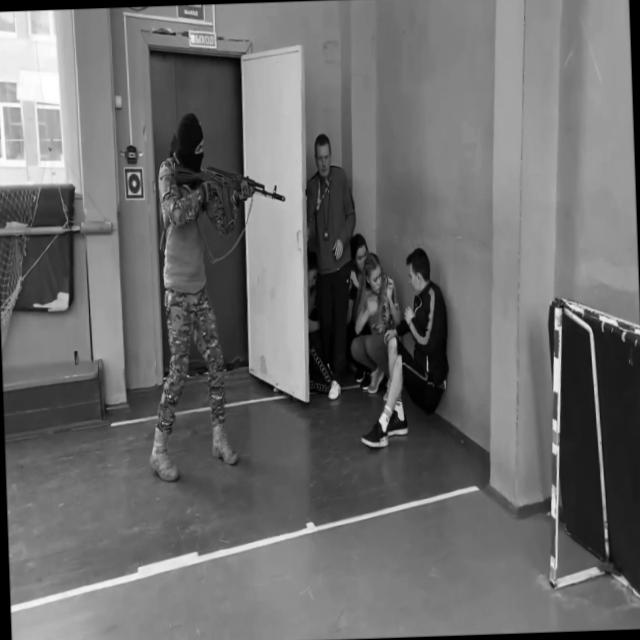gun: (172, 155, 286, 233)
person: (355, 248, 452, 448), (304, 133, 362, 403), (348, 248, 404, 402)
person with a gun: (136, 107, 295, 484)
